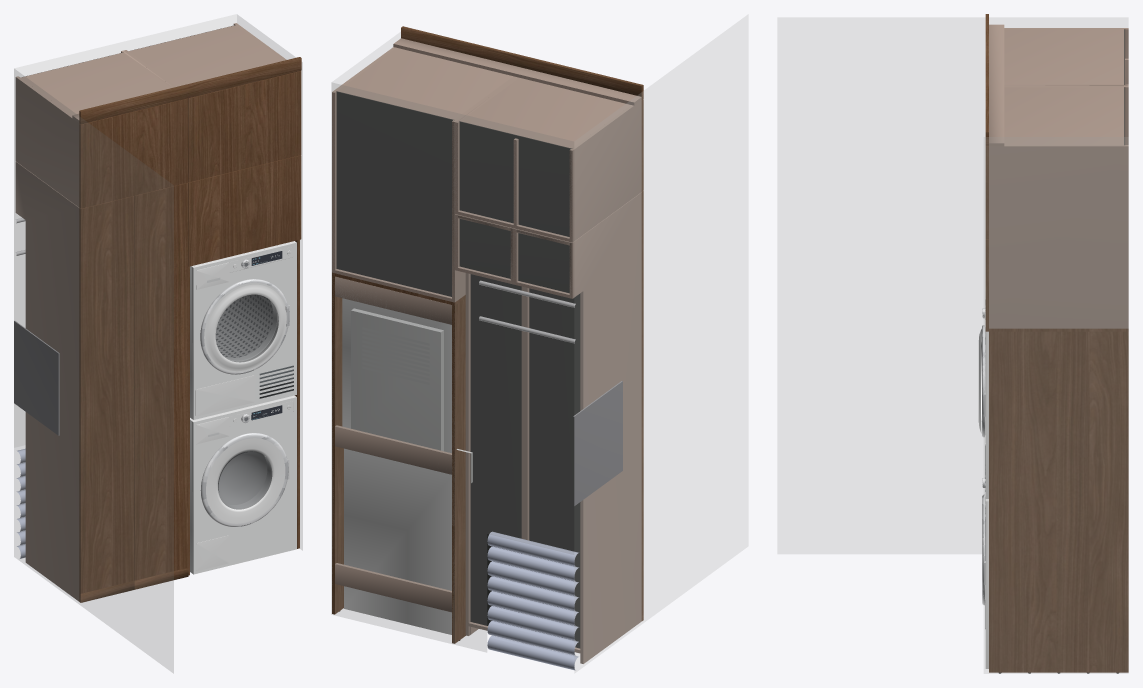
3 renders of one model, left to right at view 1: azimuth 30°, elevation 25°; view 2: azimuth 150°, elevation 25°; view 3: azimuth 270°, elevation 25°, orthographic. The views are drawn at different scales.
Parts seen in each view (by area): view 1: r2, p58, p42, p51, p68, p69, p6, p3, p31, p27, p9, p24 (+9 smaller); view 2: r1, r2, p51, p12, p68, p45, p69, p62, r4, p32, p27, p9 (+20 smaller); view 3: r2, r3, p14, p2, p9, p24, p28, p69, p68, p34.
Boxes of the visible parts, box(x1,y1,x2,y2) form: r2: box(14, 69, 173, 673); p58: box(79, 196, 134, 593); p42: box(134, 182, 188, 580); p51: box(15, 161, 79, 601); p68: box(190, 395, 296, 574); p69: box(190, 241, 296, 419); p6: box(188, 155, 301, 266); p3: box(188, 71, 301, 182); p31: box(79, 98, 188, 208); p27: box(15, 76, 79, 207); p9: box(129, 25, 283, 86); p24: box(21, 52, 170, 115); r1: box(331, 83, 573, 652); r2: box(574, 15, 748, 672); p51: box(569, 192, 641, 663); p12: box(336, 91, 454, 296); p68: box(344, 448, 451, 634); p45: box(470, 274, 521, 625); p69: box(342, 298, 451, 453); p62: box(529, 288, 580, 648); r4: box(487, 531, 578, 670); p32: box(459, 121, 571, 236); p27: box(569, 100, 641, 242); p9: box(337, 47, 512, 119); r2: box(777, 17, 1128, 553); r3: box(984, 137, 1128, 673); p14: box(989, 328, 1128, 672); p2: box(989, 145, 1128, 328); p9: box(1004, 87, 1124, 144); p24: box(1004, 29, 1124, 84); p28: box(989, 24, 1004, 146); p69: box(978, 281, 988, 498); p68: box(982, 473, 988, 668); p34: box(985, 14, 988, 146).
Bounding box in the file's own units: 1.28 × 2.71 × 1.6.
Materials: 40 (3 with a texture image).
